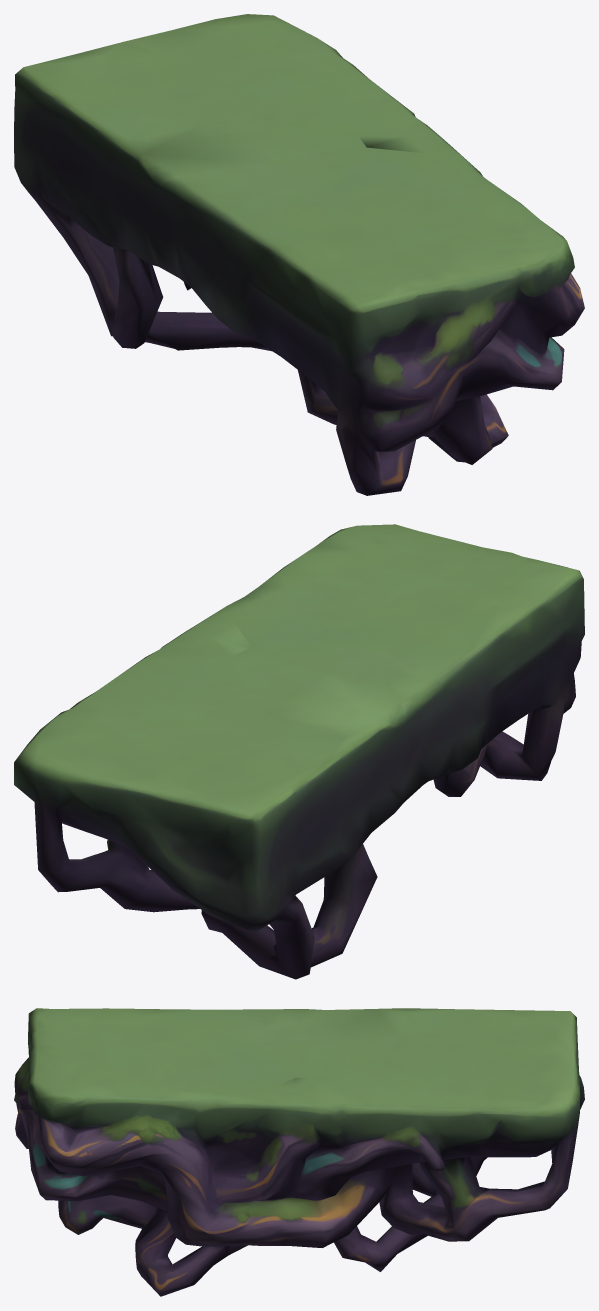
Rendered from env_root_ledge_1m_a.glb.
The picture shows the model from 3 angles, top to bottom: view 1: azimuth 30°, elevation 25°; view 2: azimuth 150°, elevation 25°; view 3: azimuth 270°, elevation 25°; orthographic projection. The views are drawn at different scales.
Visible parts, largest first — view 1: tripo_node_a0d799b1-1e97-46c5-a804-32d41c2ec011; view 2: tripo_node_a0d799b1-1e97-46c5-a804-32d41c2ec011; view 3: tripo_node_a0d799b1-1e97-46c5-a804-32d41c2ec011.
Part boxes in pixels (bbox=[...]): tripo_node_a0d799b1-1e97-46c5-a804-32d41c2ec011: bbox=[14, 14, 584, 495]; tripo_node_a0d799b1-1e97-46c5-a804-32d41c2ec011: bbox=[14, 524, 584, 979]; tripo_node_a0d799b1-1e97-46c5-a804-32d41c2ec011: bbox=[14, 1008, 584, 1296].
Size of the model in its own units: 0.4551 by 0.3904 by 1.
1 material, 1 textured.
